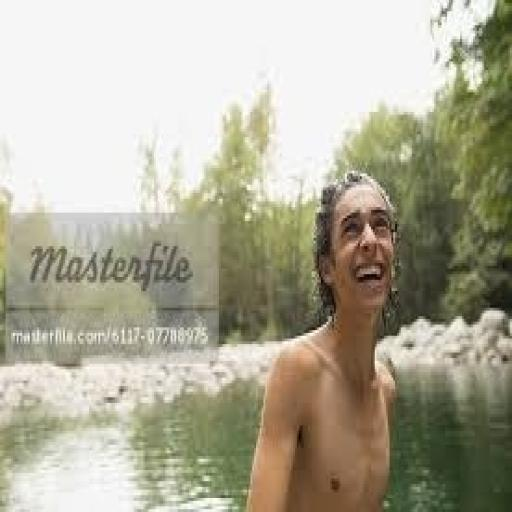laughing: (240, 157, 416, 506)
